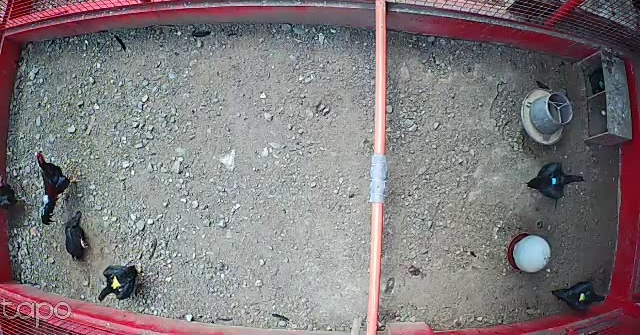Chicken: (527, 160, 586, 202), (97, 259, 147, 304), (60, 203, 91, 266), (551, 280, 609, 313)
Rooster: (32, 146, 80, 225)
Saddle_Color_Blue: (552, 177, 558, 184)
Saddle_Color_Yellow: (109, 274, 121, 290)
Saddle_Color_YellowGreen: (579, 291, 589, 301)
